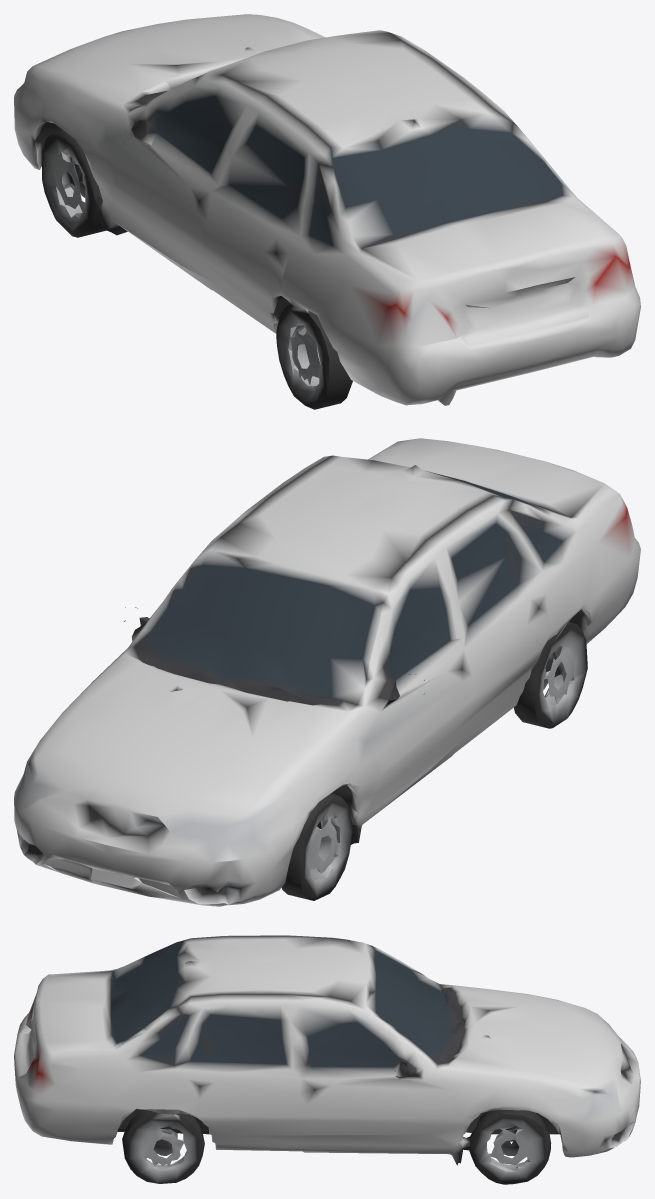
File: nexia2_parked.glb
3 views of the same model, one above another, from view 1: azimuth 30°, elevation 25°; view 2: azimuth 150°, elevation 25°; view 3: azimuth 270°, elevation 25° (orthographic). The views are drawn at different scales.
Parts seen in each view (by area): view 1: CarParked; view 2: CarParked; view 3: CarParked.
Boxes of the visible parts, x1,y1,x2,y2 form: CarParked: (14,14,640,409); CarParked: (14,438,640,906); CarParked: (14,935,640,1184).
Bounding box in the file's own units: 1.83 × 1.48 × 4.48.
